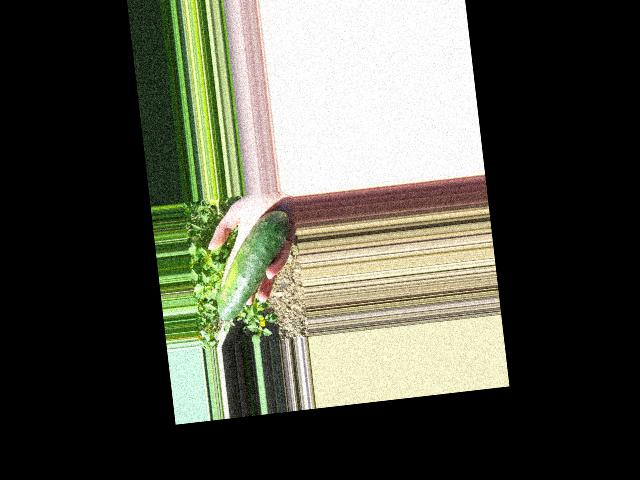cucumber: (208, 210, 299, 322)
